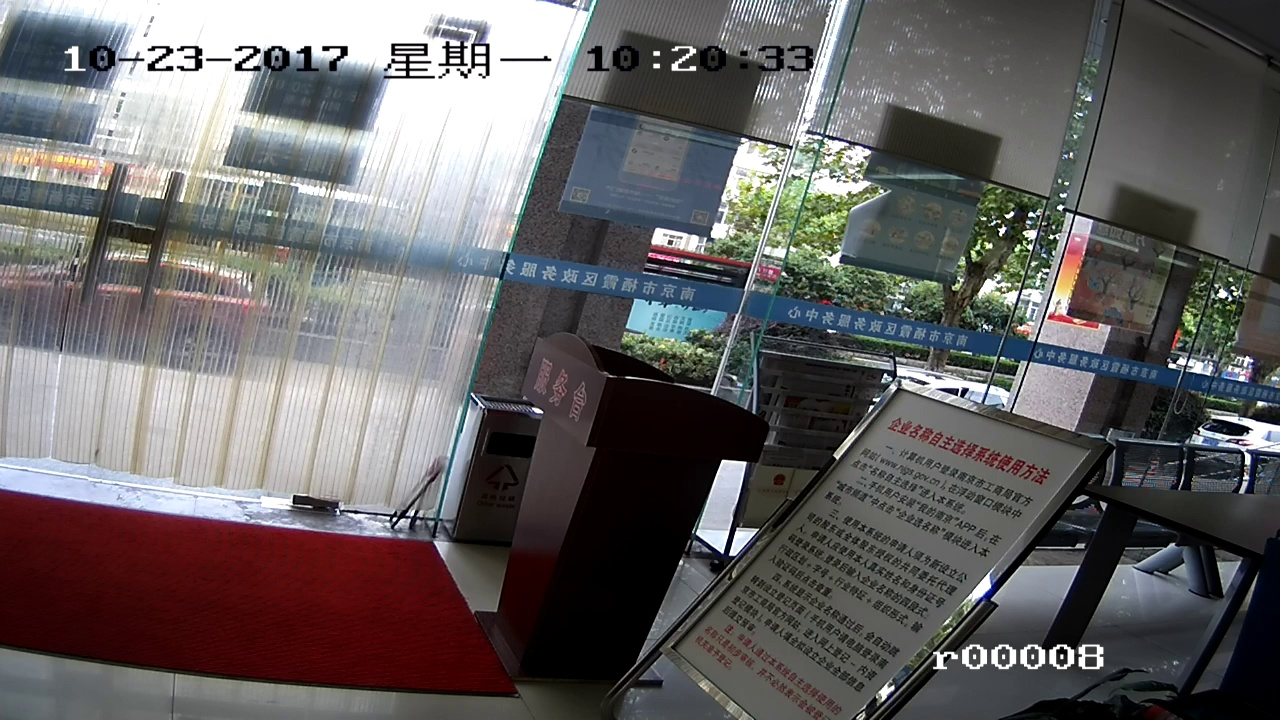billboard: (712, 378, 1097, 671)
desk: (519, 340, 658, 667)
